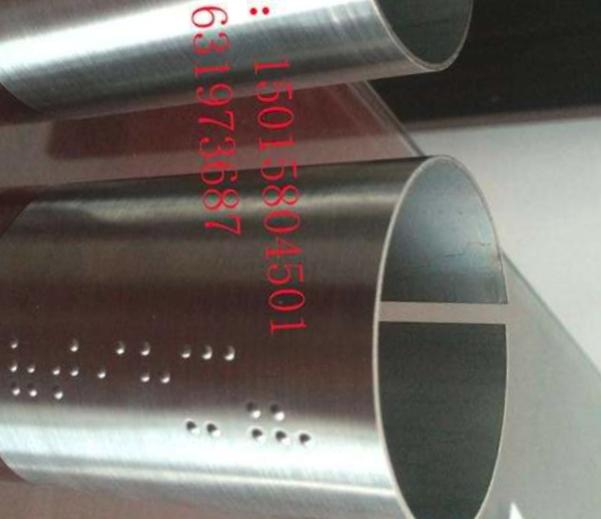Braille: (270, 402, 314, 476), (184, 419, 223, 489), (230, 402, 265, 471), (179, 341, 213, 407), (138, 341, 172, 406), (7, 337, 38, 399), (97, 341, 127, 404), (52, 338, 81, 401), (223, 345, 254, 402)
